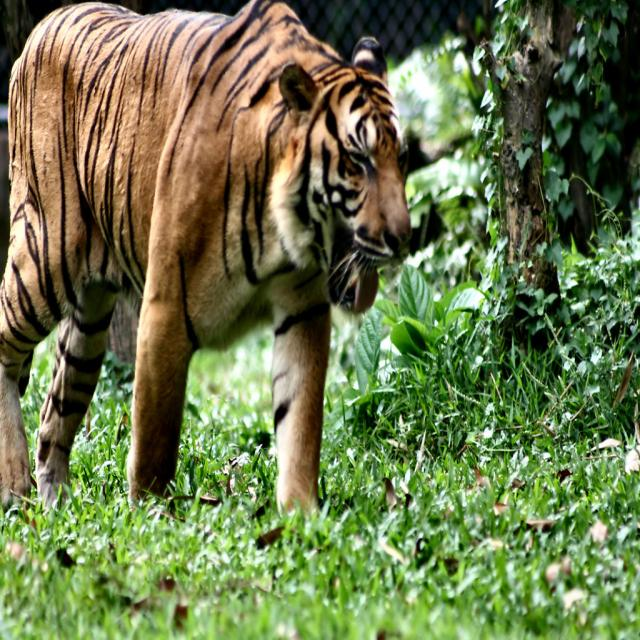Tiger: (0, 0, 411, 522)
